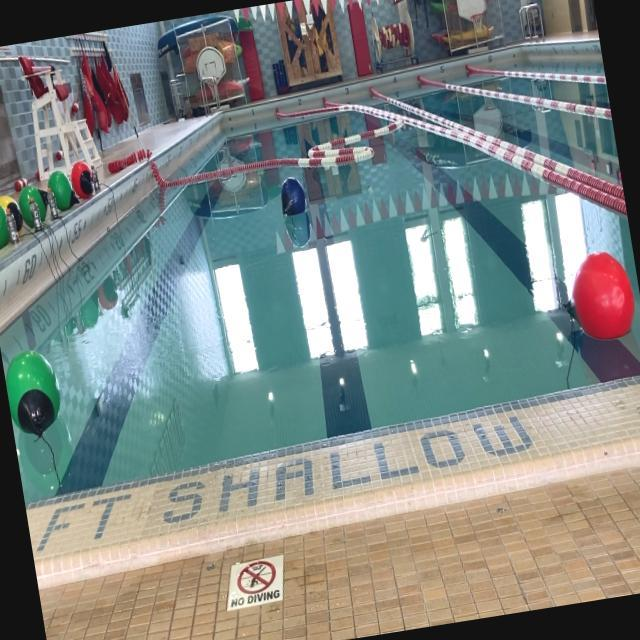buoy: (564, 250, 638, 347), (2, 344, 64, 439), (276, 176, 306, 216)
